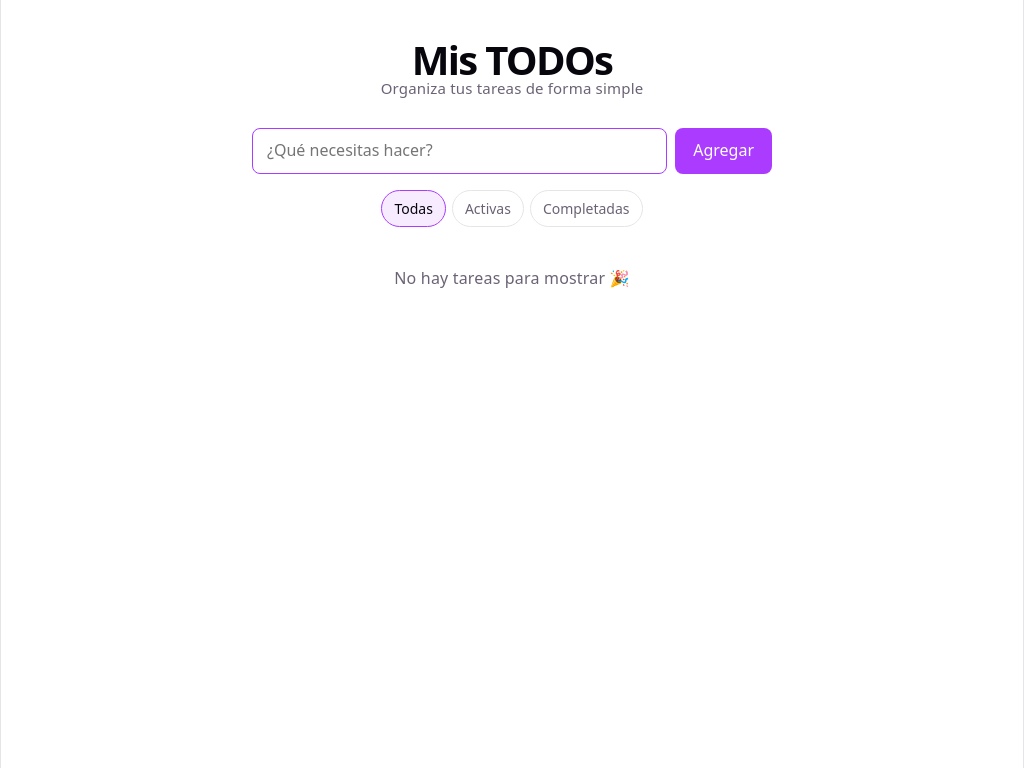
App de TODOs › elimina una tarea con el botón ×
The image size is (1024, 768).
Type "Tarea a eliminar" into the field with placeholder "¿Qué necesitas hacer?" at (460, 151), box [252,128,667,174]
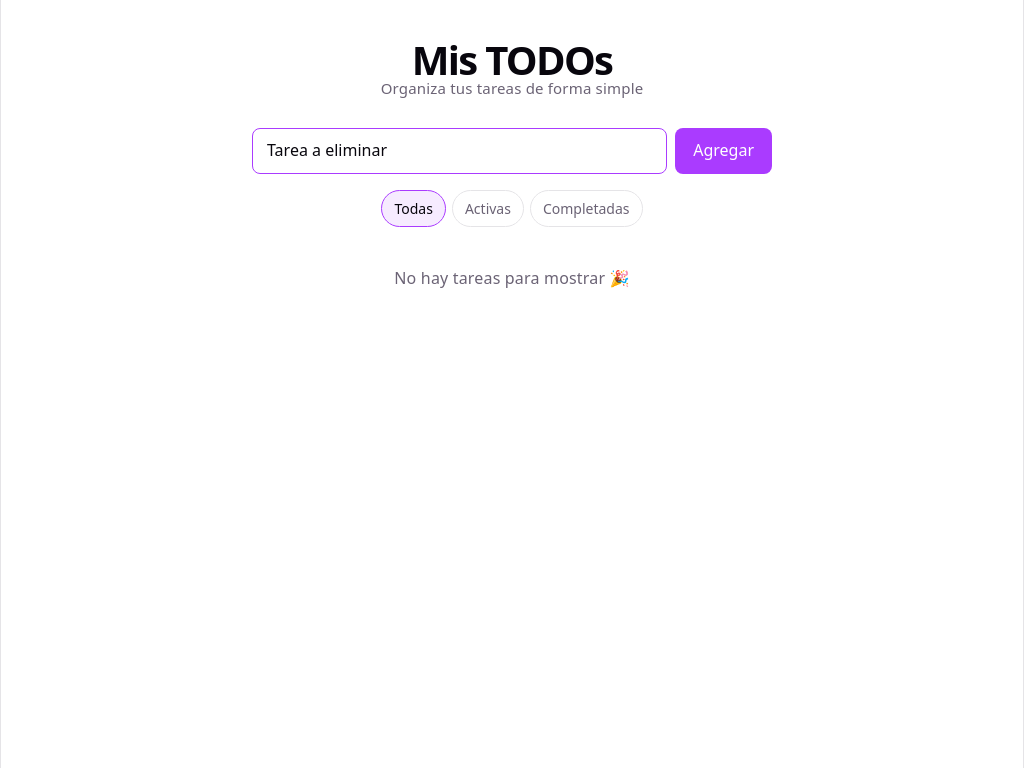
Click the button "Agregar" at (724, 151), box [675,128,772,174]
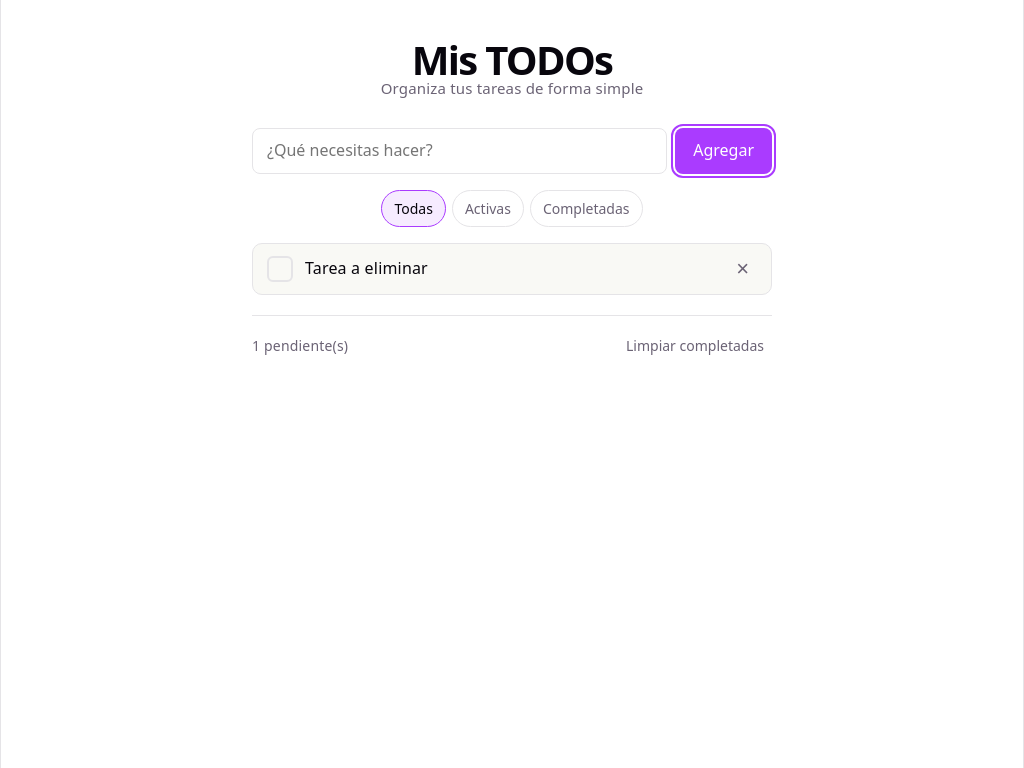
Click the button named "Eliminar" at (743, 269), box [728,256,757,282]
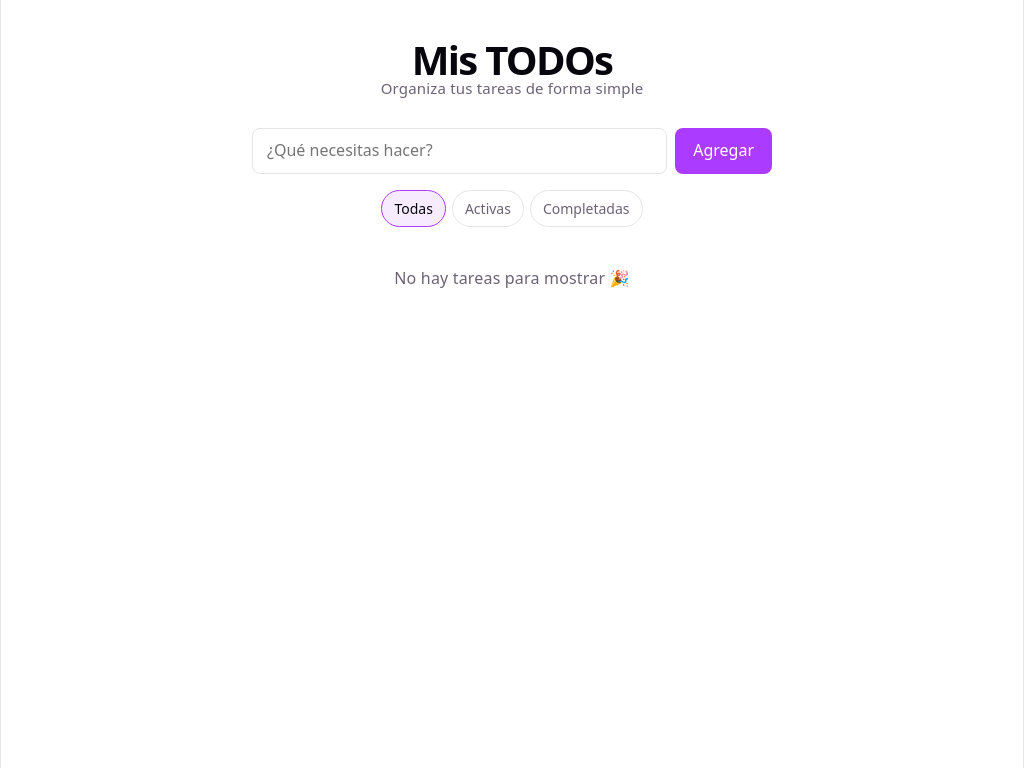
Expected: the text "Tarea a eliminar" is gone
